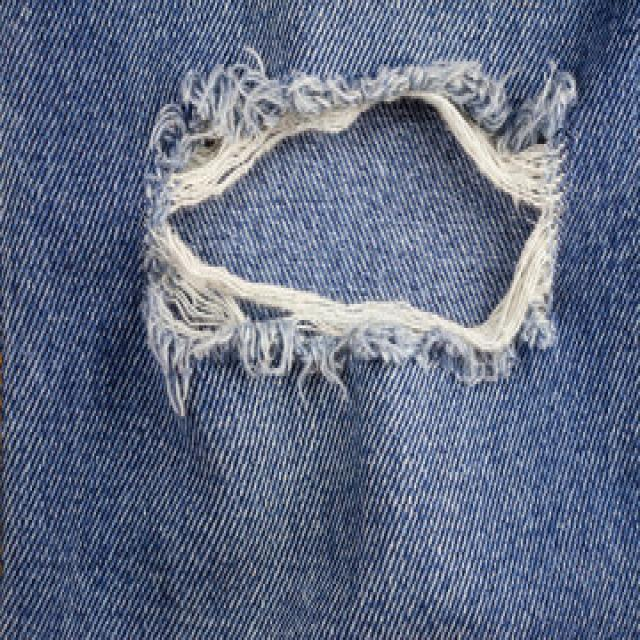Hole: (145, 60, 576, 416)
